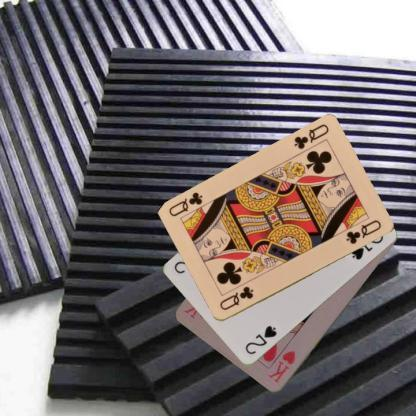2s: (243, 323, 278, 356)
Kh: (265, 347, 297, 384)
Qc: (291, 121, 330, 151), (217, 284, 254, 312)
